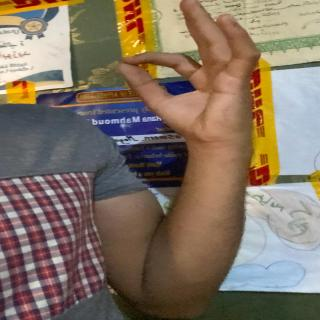Space: (116, 0, 266, 145)
